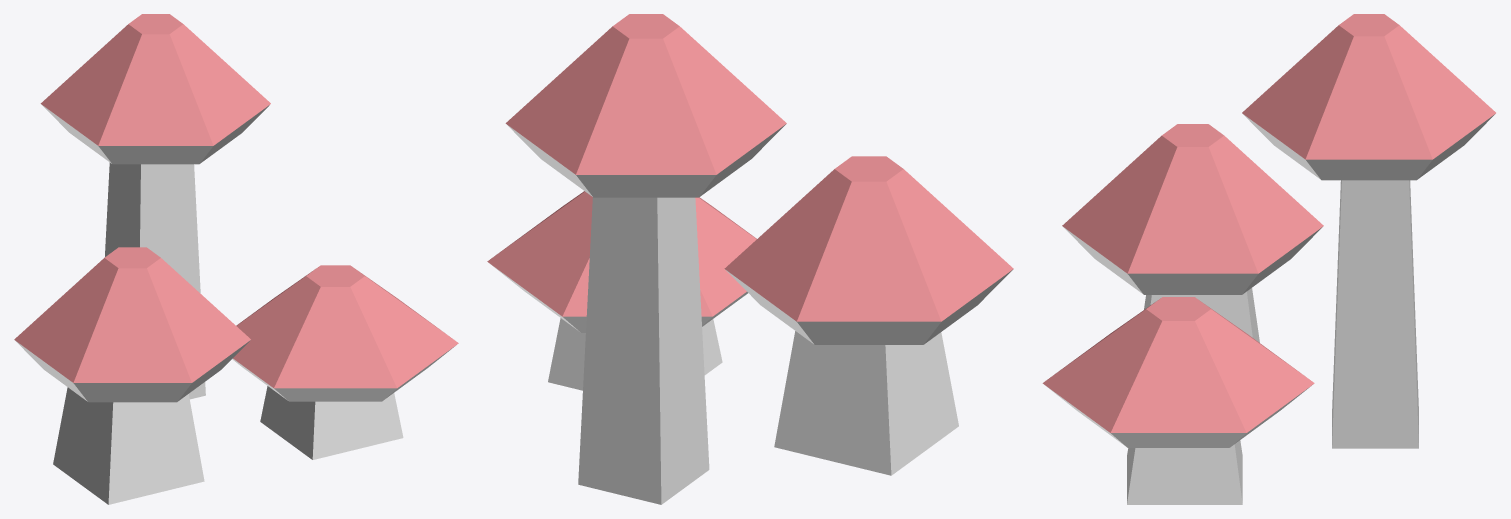
The model's file is mushroom_redGroup.glb.
The picture shows the model from 3 angles, left to right: view 1: azimuth 30°, elevation 25°; view 2: azimuth 150°, elevation 25°; view 3: azimuth 270°, elevation 25°; orthographic projection. The views are drawn at different scales.
Parts seen in each view (by area): view 1: mushroom_redGroup; view 2: mushroom_redGroup; view 3: mushroom_redGroup.
Boxes of the visible parts, box(x1,y1,x2,y2) form: mushroom_redGroup: box(14, 14, 458, 504); mushroom_redGroup: box(487, 14, 1013, 504); mushroom_redGroup: box(1042, 14, 1495, 504).
Size of the model in its own units: 0.2696 by 0.2505 by 0.2542.
